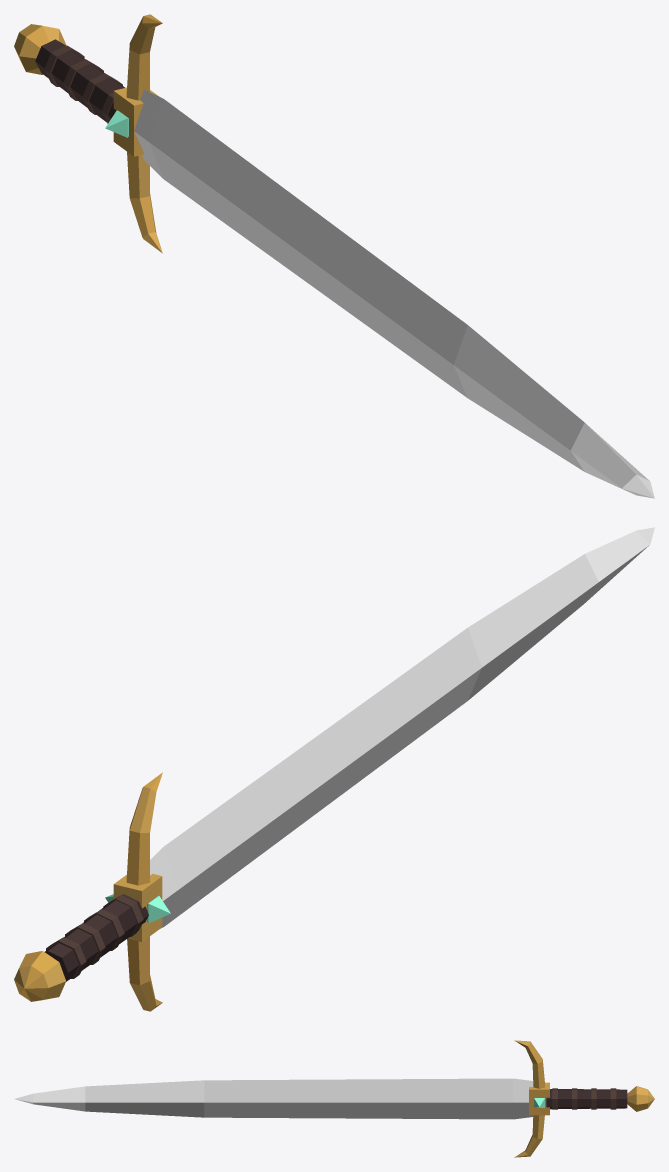
File: Blade_Tempered.fbx
The picture shows the model from 3 angles, top to bottom: view 1: azimuth 30°, elevation 25°; view 2: azimuth 150°, elevation 25°; view 3: azimuth 270°, elevation 25°; orthographic projection. The views are drawn at different scales.
Parts seen in each view (by area): view 1: Blade_Tempered_Glow, Blade_Tempered; view 2: Blade_Tempered_Glow, Blade_Tempered; view 3: Blade_Tempered_Glow, Blade_Tempered.
Boxes of the visible parts, bbox=[...] form: Blade_Tempered_Glow: bbox=[134, 89, 654, 498]; Blade_Tempered: bbox=[14, 14, 162, 253]; Blade_Tempered_Glow: bbox=[150, 527, 654, 928]; Blade_Tempered: bbox=[14, 772, 170, 1011]; Blade_Tempered_Glow: bbox=[15, 1078, 533, 1119]; Blade_Tempered: bbox=[514, 1040, 654, 1157].
Size of the model in its own units: 0.084 by 0.28 by 1.39.
